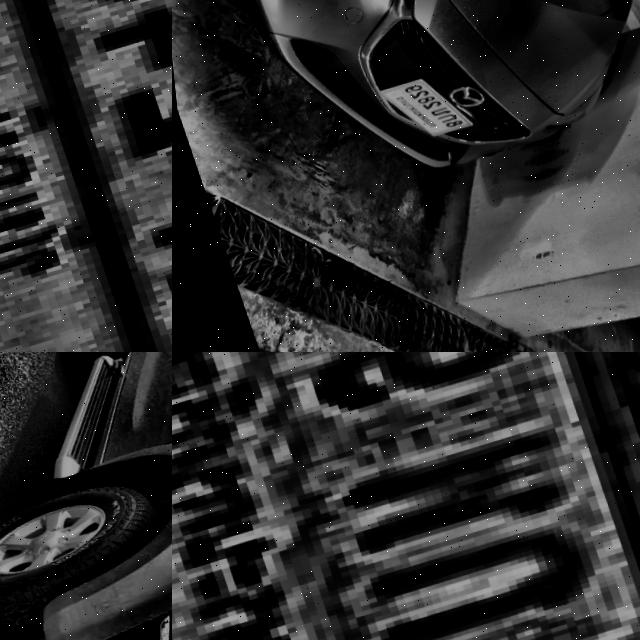license-plate: (172, 352, 640, 640), (0, 0, 172, 352), (367, 69, 467, 155)
